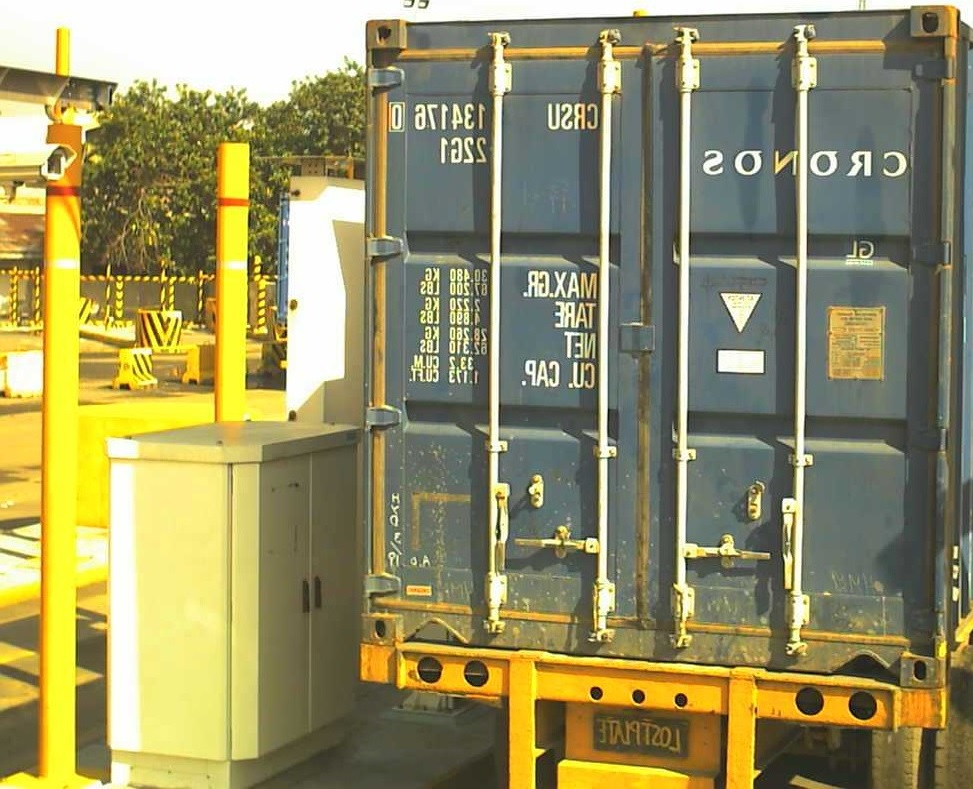container_door: (376, 10, 948, 694)
